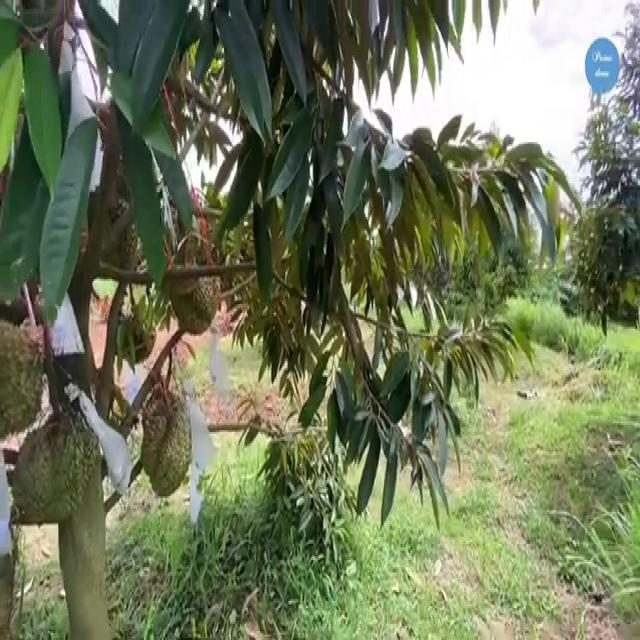durian: (8, 400, 105, 533), (139, 383, 195, 505), (166, 236, 223, 336), (0, 318, 46, 434)
